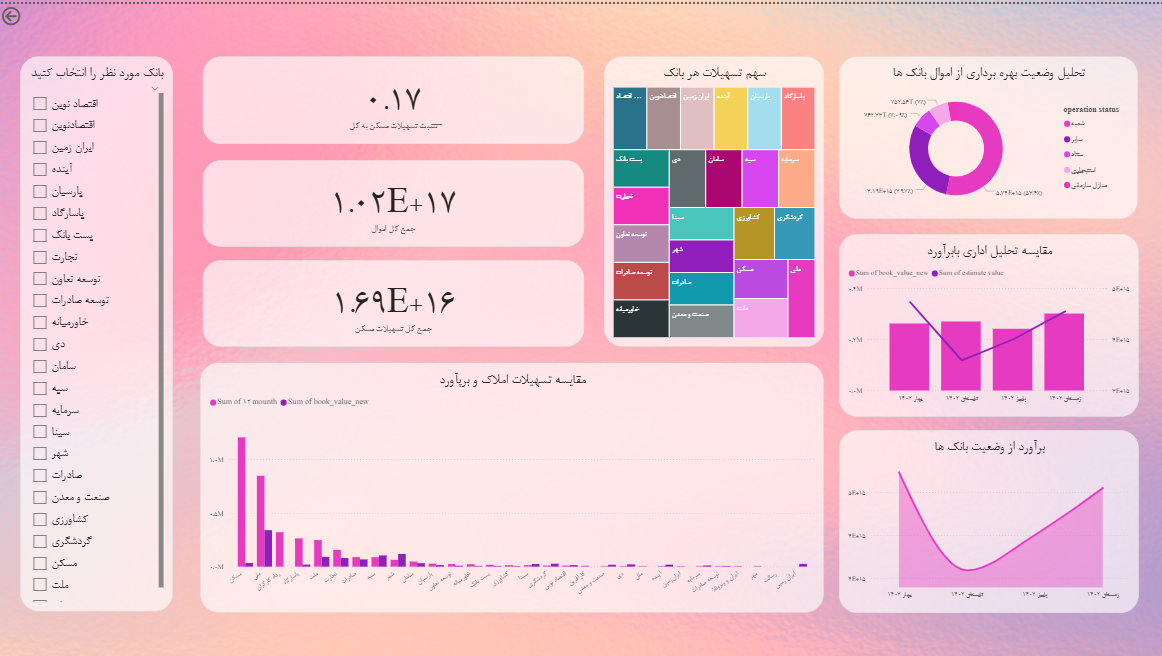

The page's visual inventory and layout, read from the dashboard file:
{"tool":"powerbi","page":{"name":"partage","canvas":[1920,1080],"ordinal":1},"visuals":[{"type":"donutChart","title":"تحلیل وضعیت بهره برداری از اموال بانک ها","fields":{"Category":["اموال بانک ها.operation status"],"Y":["Sum(اموال بانک ها.book value)"]},"box":[1383.2,86.4,491.9,267.6],"z":0},{"type":"actionButton","box":[0,0,100,40],"z":1000},{"type":"slicer","title":"بانک مورد نظر را انتخاب کنید","fields":{"Values":["اموال بانک ها.name"]},"box":[35,86.4,251.1,913.9],"z":2000},{"type":"areaChart","title":"برآورد از وضعیت بانک ها","fields":{"Y":["Sum(اموال بانک ها.estimate value)"],"Category":["prd_helper.name_prd"]},"box":[1383.2,701.9,494,300.5],"z":3000},{"type":"clusteredColumnChart","title":"مقایسه تسهیلات املاک و برپآورد","fields":{"Y":["Sum(آمار تجمیعی.12 mounth)","Sum(اموال بانک ها.book_value_new)"],"Category":["bank_name_helper.name_helper"]},"box":[331.9,589.8,1026.4,411.1],"z":4000},{"type":"card","fields":{"Values":["my_measure.housing loan"]},"box":[335.5,257.3,627.8,142],"z":5000},{"type":"card","fields":{"Values":["my_measure.total asset"]},"box":[335.5,422,627.8,142],"z":6000},{"type":"treemap","title":"سهم تسهیلات هر بانک","fields":{"Group":["bank_property.name"],"Values":["Sum(asset.net facilities)"]},"box":[996.2,86.4,362.3,477.5],"z":7000},{"type":"lineStackedColumnComboChart","title":"مقایسه تحلیل اداری بابرآورد","fields":{"Y":["Sum(bank_property.book_value_new)"],"Y2":["Sum(bank_property.estimate value)"],"Category":["prd_helper.name_prd"]},"box":[1383.2,378.7,494,300.5],"z":8000},{"type":"card","fields":{"Values":["my_measure.division"]},"box":[335.5,86.4,627.8,144.1],"z":9000}]}

Visuals, with their boxes in screenshot pixels (x1, y1, x2, y2), scaled from the page's 1920x1080 canvas onto the 1162x656 screenshot:
"تحلیل وضعیت بهره برداری از اموال بانک ها" donutChart: (left=837, top=52, right=1135, bottom=215)
actionButton: (left=0, top=0, right=61, bottom=24)
"بانک مورد نظر را انتخاب کنید" slicer: (left=21, top=52, right=173, bottom=608)
"برآورد از وضعیت بانک ها" areaChart: (left=837, top=426, right=1136, bottom=609)
"مقایسه تسهیلات املاک و برپآورد" clusteredColumnChart: (left=201, top=358, right=822, bottom=608)
card - my_measure.housing loan: (left=203, top=156, right=583, bottom=243)
card - my_measure.total asset: (left=203, top=256, right=583, bottom=343)
"سهم تسهیلات هر بانک" treemap: (left=603, top=52, right=822, bottom=343)
"مقایسه تحلیل اداری بابرآورد" lineStackedColumnComboChart: (left=837, top=230, right=1136, bottom=413)
card - my_measure.division: (left=203, top=52, right=583, bottom=140)
